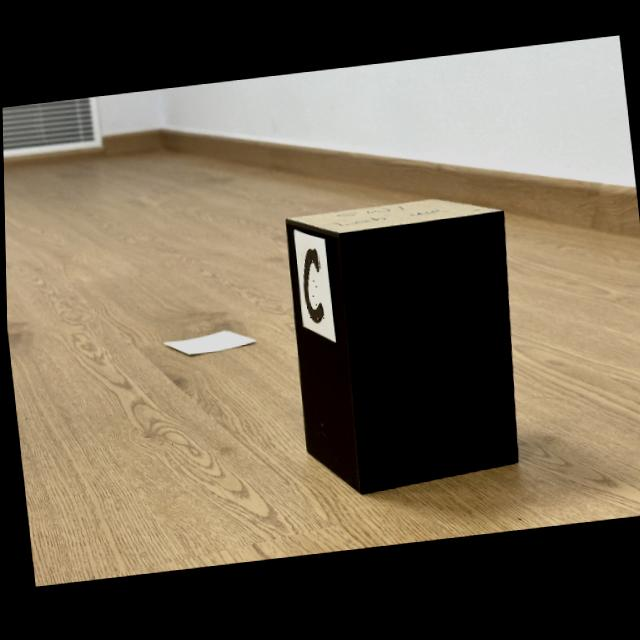C: (302, 250, 323, 325)
